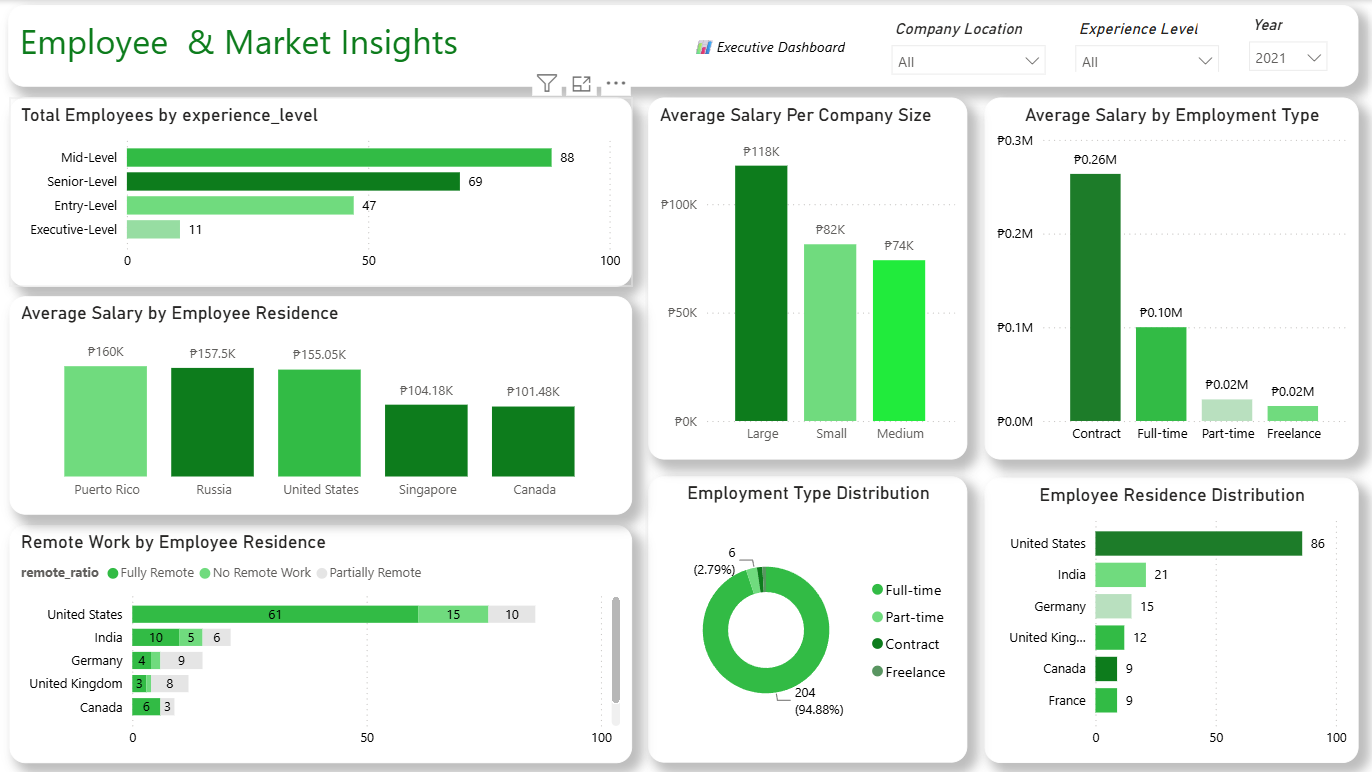

The dashboard page shown, as its layout file describes it:
{"tool":"powerbi","page":{"name":"Employee Analysis","canvas":[1280,720],"ordinal":1},"visuals":[{"type":"textbox","box":[10.9,4.8,1256,76.3],"z":0},{"type":"barChart","title":"Employee Residence Distribution","fields":{"Category":["Data_science-salaries.employee_residence"],"Y":["Data_science-salaries.Total Employees"]},"box":[918.4,443.8,347.6,265.8],"z":1000},{"type":"actionButton","box":[631,19.4,174.4,47.2],"z":2000},{"type":"columnChart","title":"Average Salary by Employment Type","fields":{"Category":["Data_science-salaries.employment_type"],"Y":["Data_science-salaries.Average Salary"]},"box":[918.1,90.8,347.6,336.7],"z":3000},{"type":"donutChart","title":"Employment Type Distribution","fields":{"Category":["Data_science-salaries.employment_type"],"Y":["Data_science-salaries.Total Employees"]},"box":[605.6,443.3,296.7,266.5],"z":4000},{"type":"barChart","fields":{"Category":["Data_science-salaries.experience_level"],"Y":["Data_science-salaries.Total Employees"]},"box":[12.1,90.8,579,175.6],"z":5000},{"type":"barChart","title":"Remote Work by Employee Residence","fields":{"Category":["Data_science-salaries.employee_residence"],"Y":["Data_science-salaries.Total Employees"],"Series":["Data_science-salaries.remote_ratio"]},"box":[12.1,488.1,579,221.7],"z":6000},{"type":"columnChart","title":"Average Salary Per Company Size","fields":{"Category":["Data_science-salaries.company_size"],"Y":["Data_science-salaries.Average Salary"]},"box":[605.6,90.8,296.7,336.7],"z":7000},{"type":"columnChart","title":"Average Salary by Employee Residence","fields":{"Category":["Data_science-salaries.employee_residence"],"Y":["Data_science-salaries.Average Salary"]},"box":[12.1,276.2,579,203.5],"z":8000},{"type":"slicer","fields":{"Values":["Data_science-salaries.work_year"]},"box":[1150.6,6.1,100.5,64.2],"z":9000},{"type":"slicer","fields":{"Values":["Data_science-salaries.experience_level"]},"box":[989.6,9.7,161.1,58.1],"z":10000},{"type":"slicer","fields":{"Values":["Data_science-salaries.company_location"]},"box":[818.8,9.7,170.8,69],"z":11000}]}

Visuals, with their boxes in screenshot pixels (x1, y1, x2, y2), scaled from the page's 1280x720 canvas onto the 1372x772 screenshot:
textbox: [x1=12, y1=5, x2=1358, y2=87]
"Employee Residence Distribution" barChart: [x1=984, y1=476, x2=1357, y2=761]
actionButton: [x1=676, y1=21, x2=863, y2=71]
"Average Salary by Employment Type" columnChart: [x1=984, y1=97, x2=1357, y2=458]
"Employment Type Distribution" donutChart: [x1=649, y1=475, x2=967, y2=761]
barChart - Data_science-salaries.experience_level x Data_science-salaries.Total Employees: [x1=13, y1=97, x2=634, y2=286]
"Remote Work by Employee Residence" barChart: [x1=13, y1=523, x2=634, y2=761]
"Average Salary Per Company Size" columnChart: [x1=649, y1=97, x2=967, y2=458]
"Average Salary by Employee Residence" columnChart: [x1=13, y1=296, x2=634, y2=514]
slicer - Data_science-salaries.work_year: [x1=1233, y1=7, x2=1341, y2=75]
slicer - Data_science-salaries.experience_level: [x1=1061, y1=10, x2=1233, y2=73]
slicer - Data_science-salaries.company_location: [x1=878, y1=10, x2=1061, y2=84]
